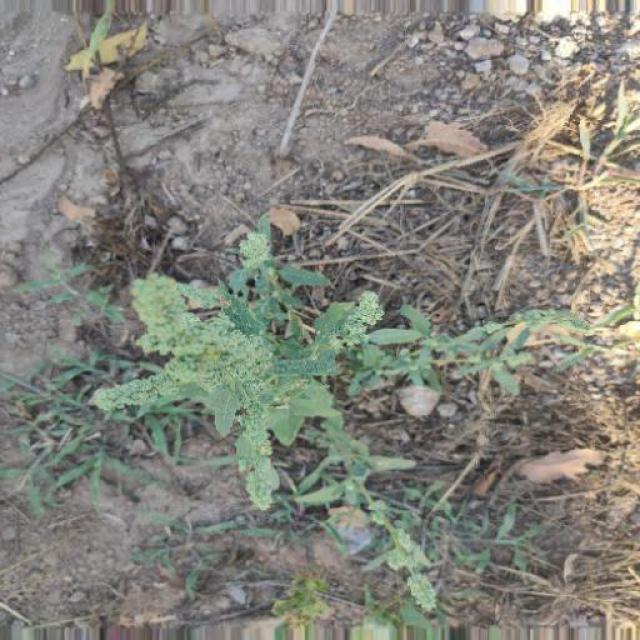weed: (132, 264, 392, 515)
